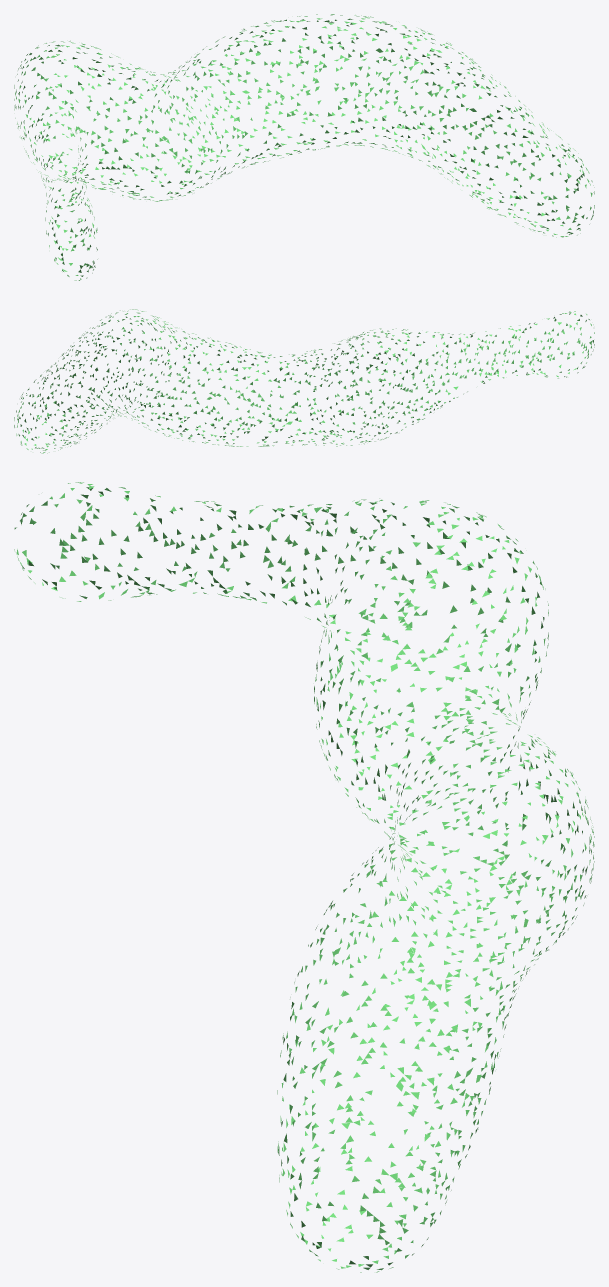
The model's file is morph_018.glb.
3 renders of one model, top to bottom at view 1: azimuth 30°, elevation 25°; view 2: azimuth 150°, elevation 25°; view 3: azimuth 270°, elevation 25°, orthographic. The views are drawn at different scales.
Bounding box in the file's own units: 103 × 44.44 × 56.14.
